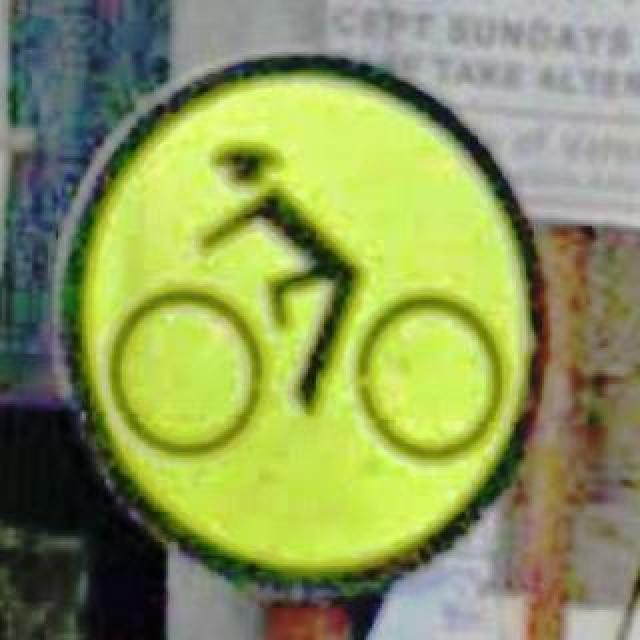bike lane: (56, 48, 548, 598)
